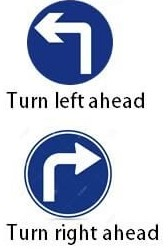Traffic signal: (21, 128, 116, 217), (25, 1, 115, 87)
